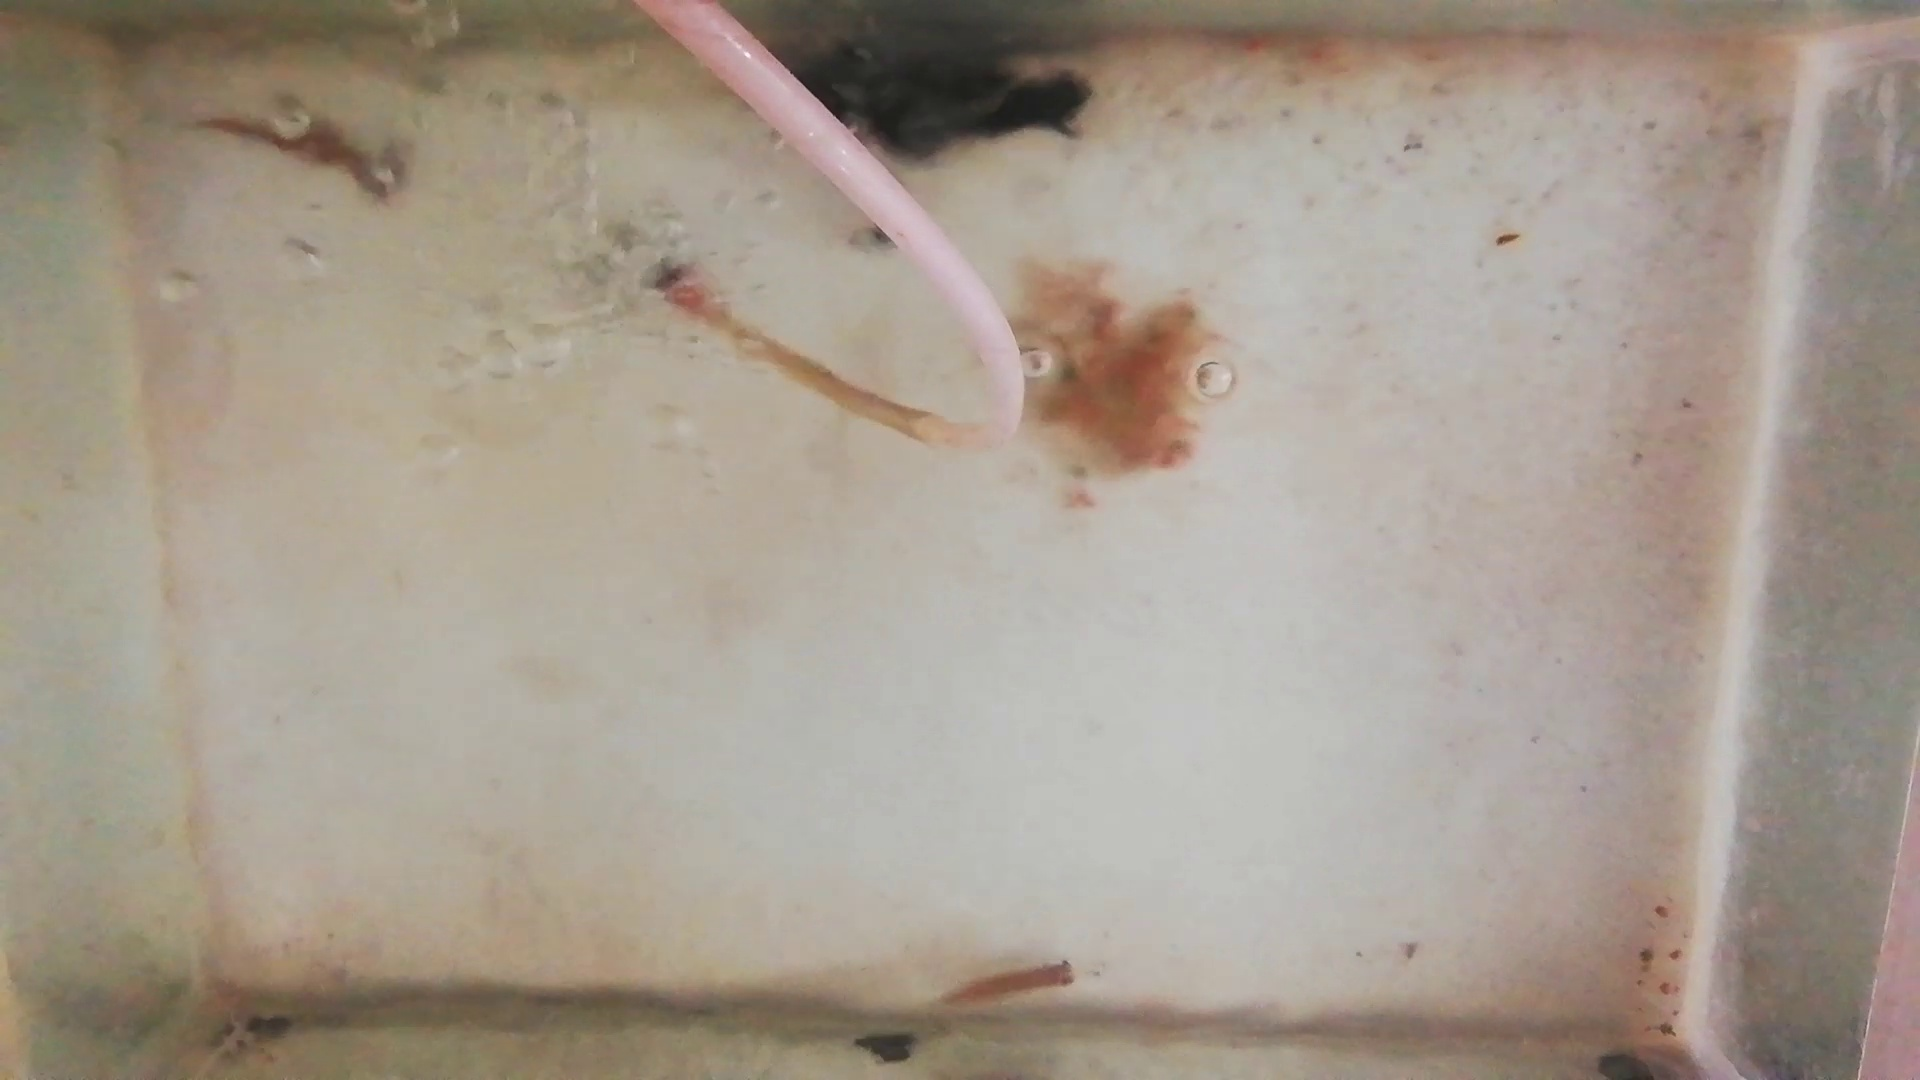fish: (179, 111, 410, 208), (940, 956, 1077, 1009)
